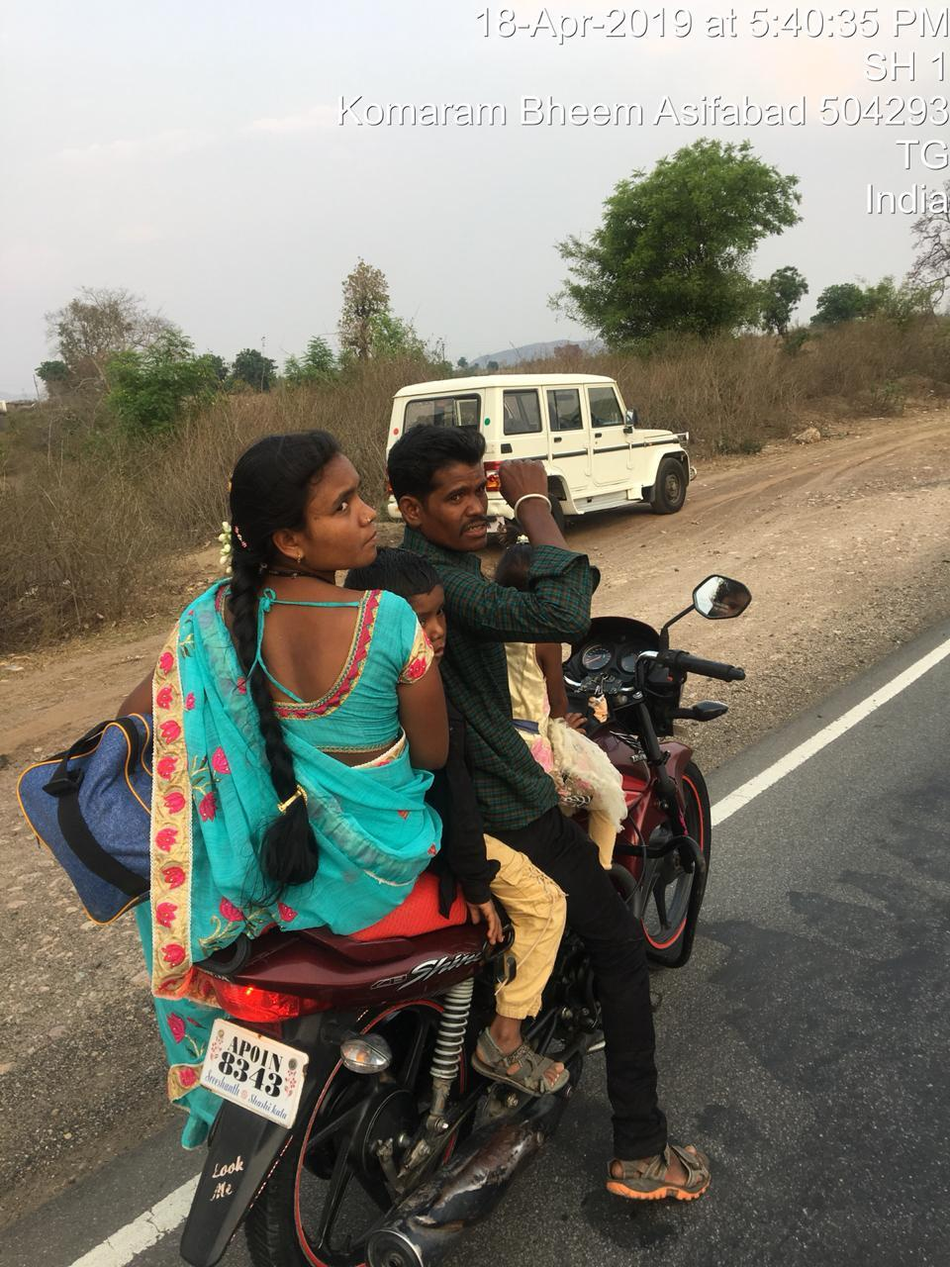plate: (174, 994, 345, 1153)
